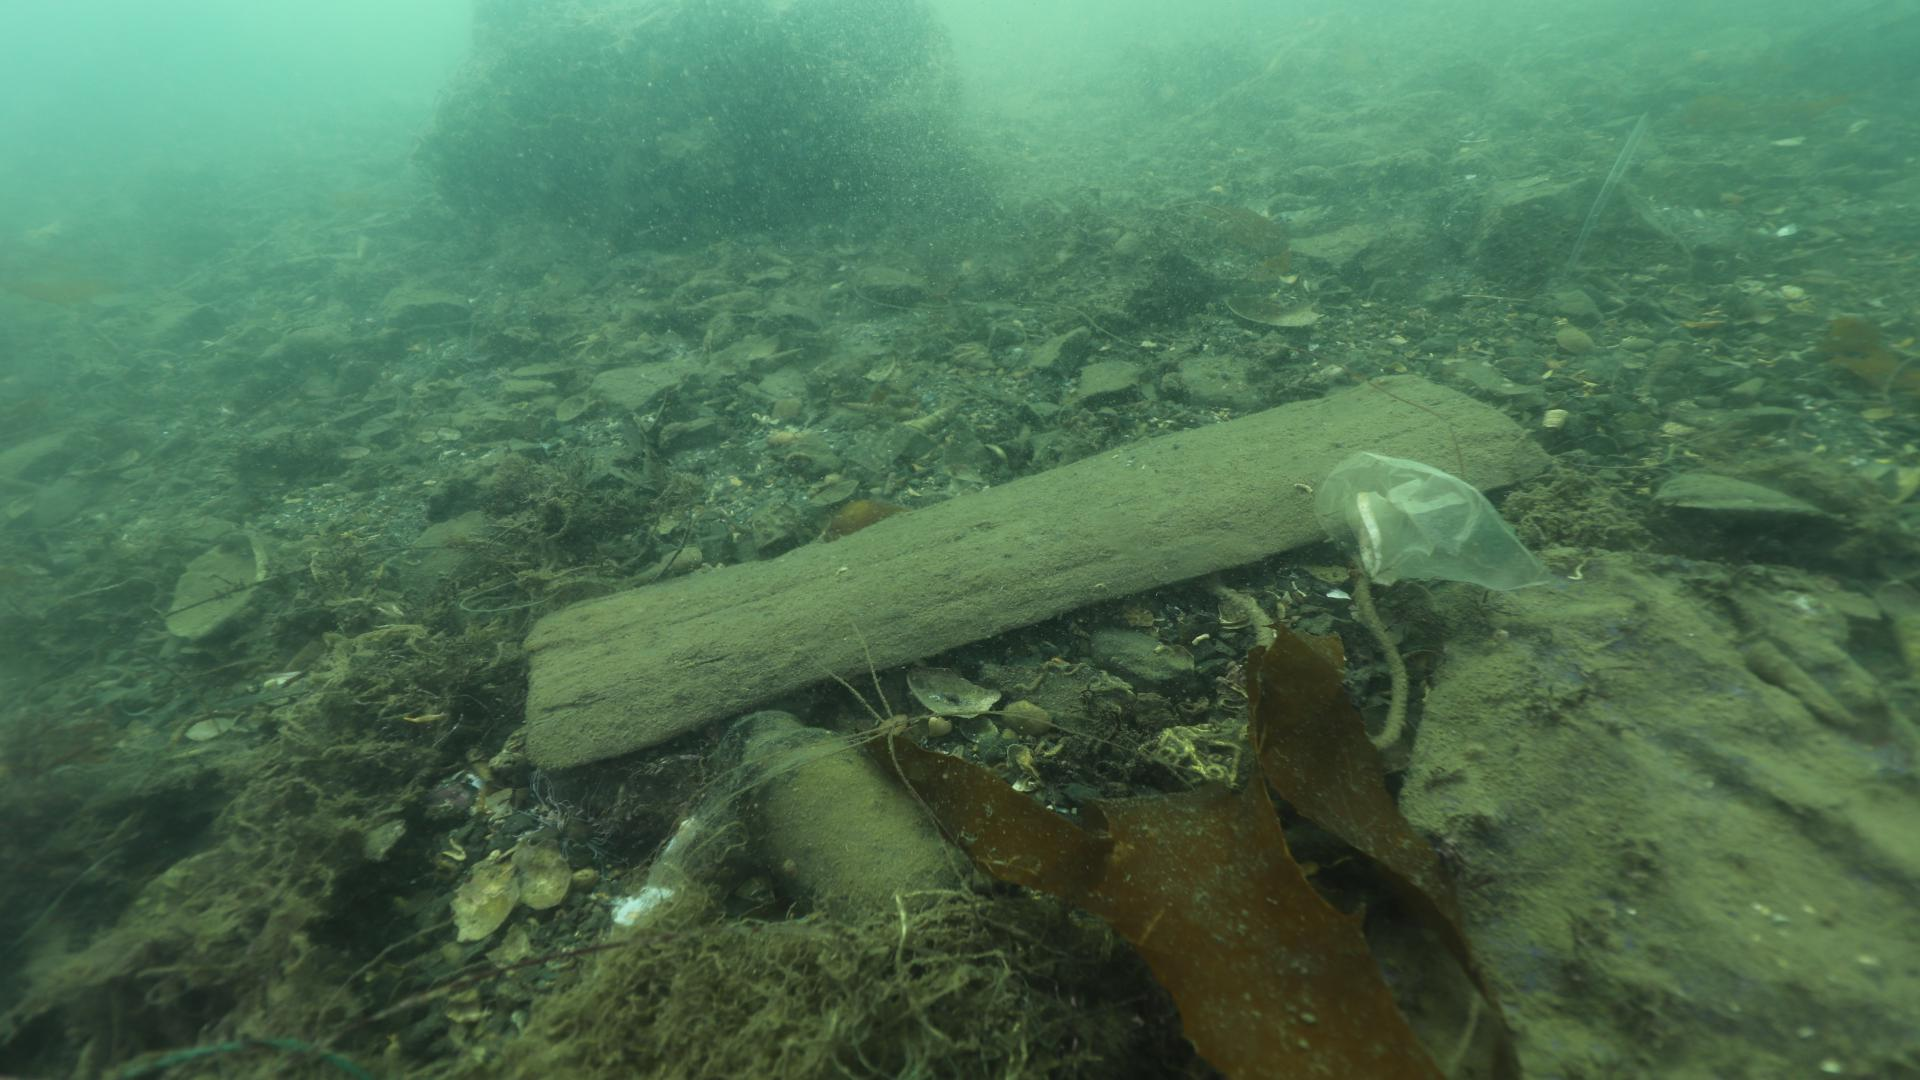wood: (520, 372, 1557, 778)
